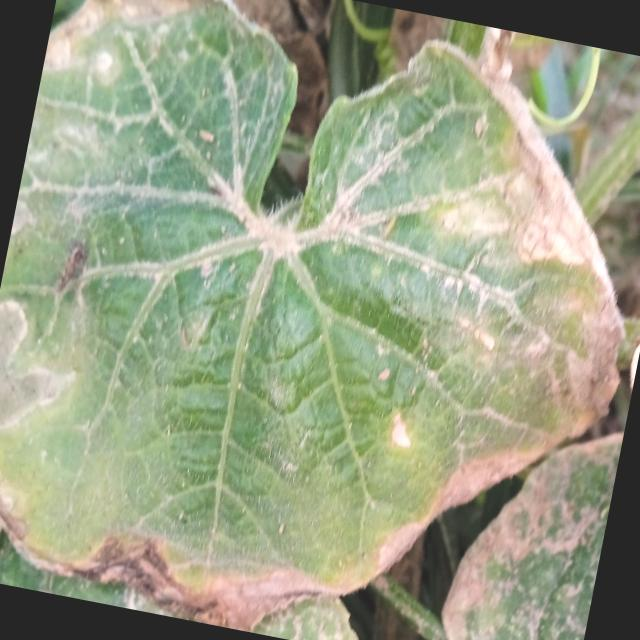cucumber_gummy: (0, 0, 640, 640), (429, 388, 627, 640)
